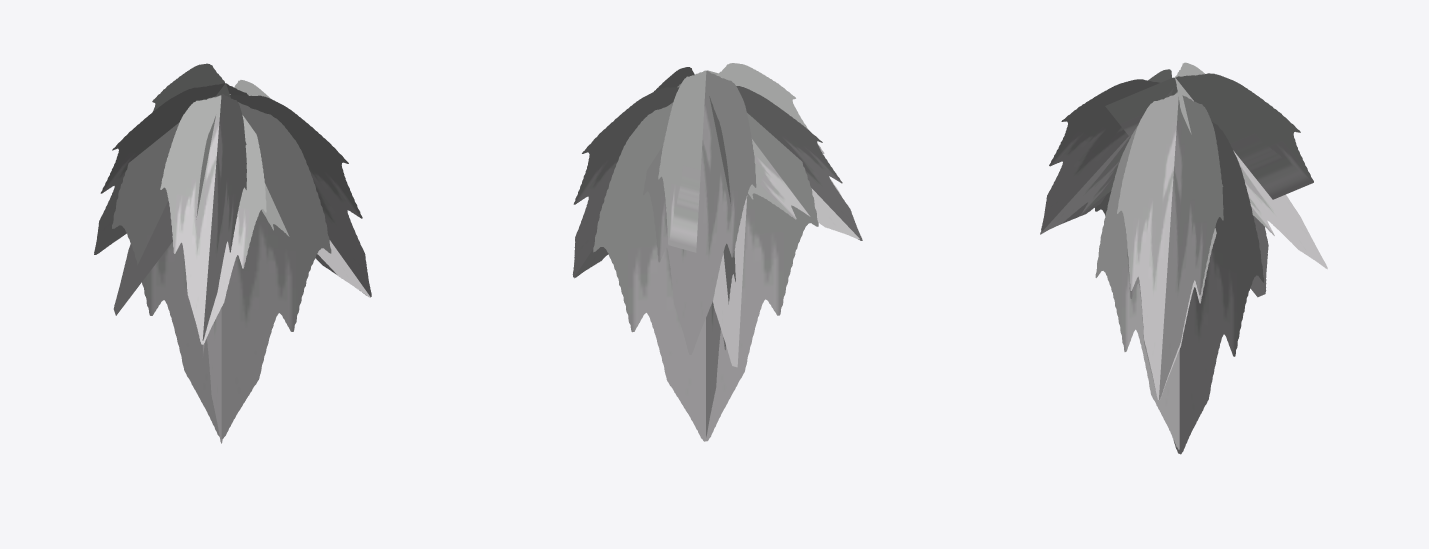
File: Eff_BeastCombo_Bullet_Smoke.FBX
The picture shows the model from 3 angles, left to right: view 1: azimuth 30°, elevation 25°; view 2: azimuth 150°, elevation 25°; view 3: azimuth 270°, elevation 25°; orthographic projection. The views are drawn at different scales.
Visible parts, largest first — view 1: 0123_1efc_fire03; view 2: 0123_1efc_fire03; view 3: 0123_1efc_fire03.
Part boxes in pixels (<box>): 0123_1efc_fire03: <box>94,63,371,443</box>; 0123_1efc_fire03: <box>572,63,862,441</box>; 0123_1efc_fire03: <box>1040,62,1327,454</box>.
Bounding box in the file's own units: 152 × 183 × 163.
